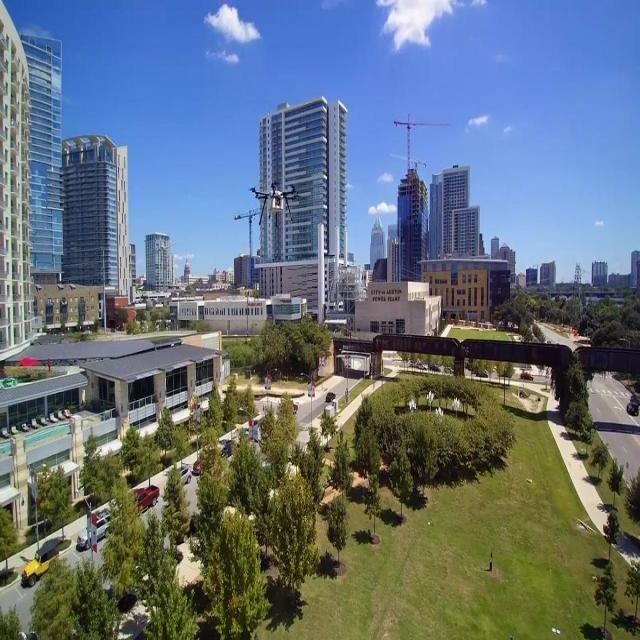UAV: (248, 183, 299, 227)
